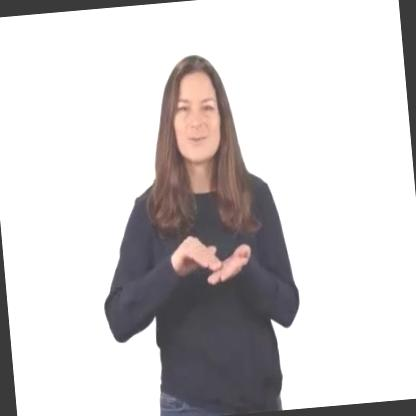ExcuseMe: (160, 205, 256, 298)
